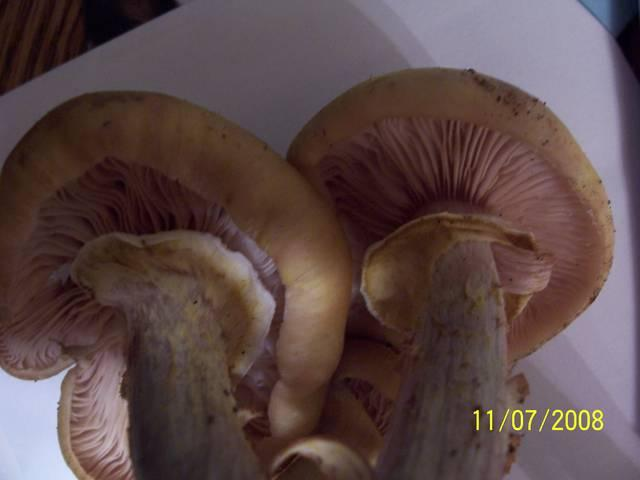Edible Mushroom: (0, 88, 354, 478), (284, 65, 615, 478)
